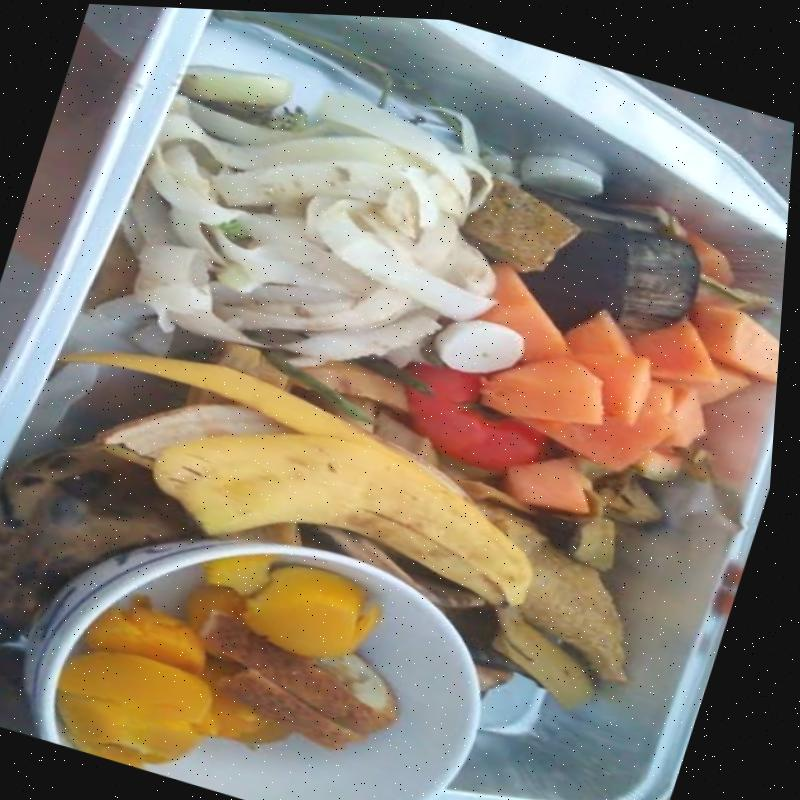fruit peels: (70, 351, 531, 609), (0, 440, 202, 643)
left-over food: (185, 584, 397, 750)
vegetable peels: (80, 63, 495, 368), (476, 229, 780, 470), (428, 317, 524, 375), (504, 459, 595, 517)
